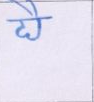ai_matra: (5, 0, 45, 17)
